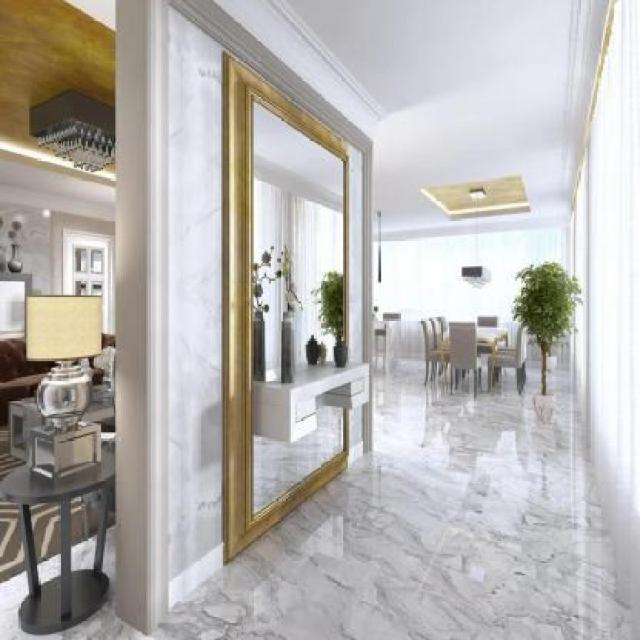Floor: (0, 358, 632, 639), (71, 534, 98, 572), (37, 554, 60, 586)
